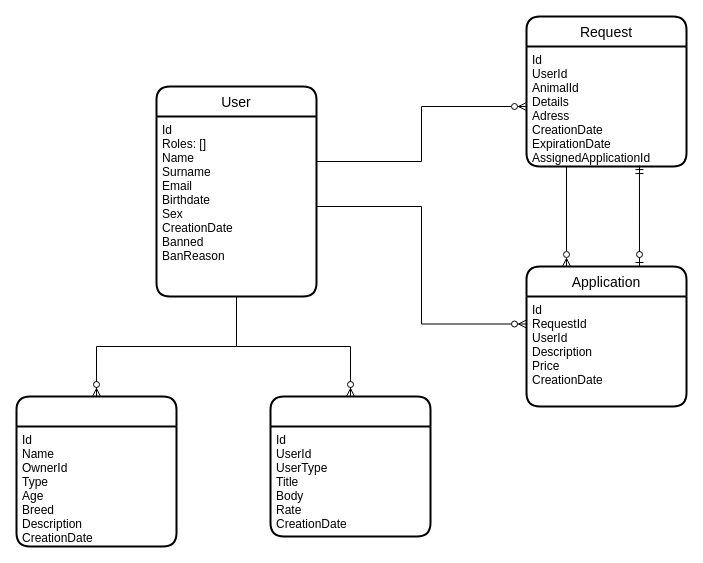
Image size: 703x563. Some labels were removed from this diagram. Each missing label, with the box of its shape:
Animal: (15, 395, 177, 547)
Feedback: (269, 395, 431, 537)
